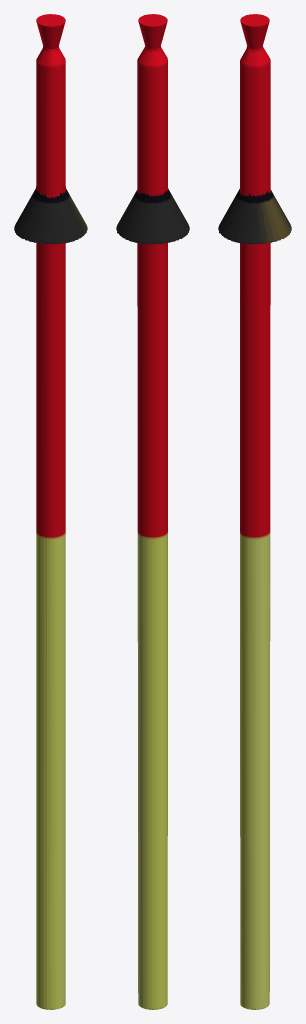
Rendered from InsulationRod.fbx.
3 views of the same model, side by side, from view 1: azimuth 30°, elevation 25°; view 2: azimuth 150°, elevation 25°; view 3: azimuth 330°, elevation 25° (orthographic).
Visible parts, largest first — view 1: Cone.002; view 2: Cone.002; view 3: Cone.002.
Part boxes in pixels (bbox=[...]): Cone.002: bbox=[14, 14, 87, 1009]; Cone.002: bbox=[116, 14, 189, 1009]; Cone.002: bbox=[218, 14, 291, 1009].
Bounding box in the file's own units: 98.5 × 1460 × 98.5.
